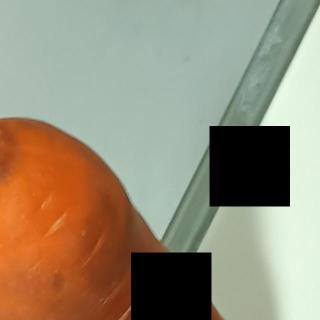carrot: (0, 110, 288, 319)
